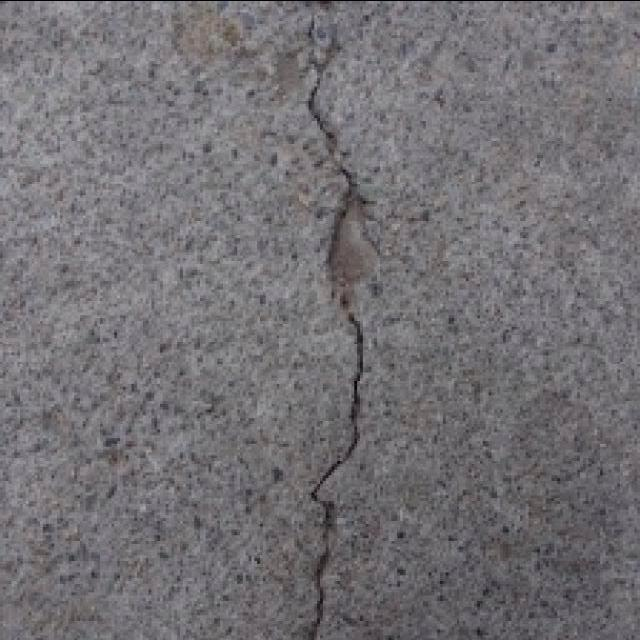SurfaceCrack: (224, 0, 406, 640)
